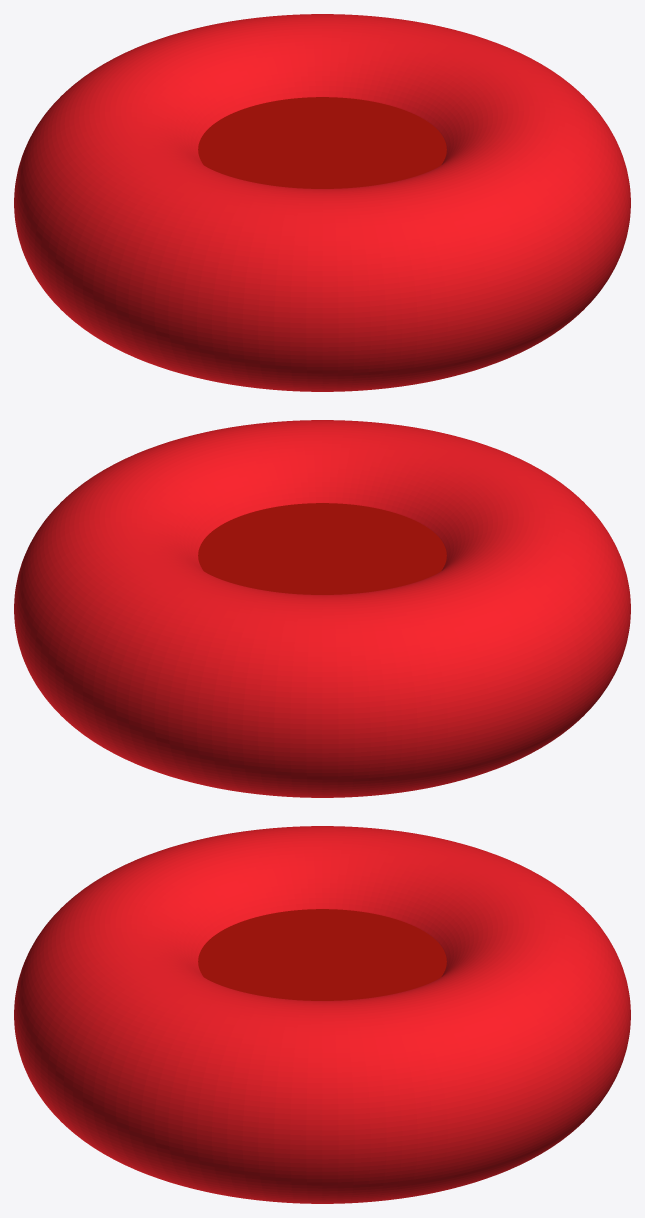
Rendered from Red Blood Cell.glb.
3 views of the same model, one above another, from view 1: azimuth 30°, elevation 25°; view 2: azimuth 150°, elevation 25°; view 3: azimuth 270°, elevation 25° (orthographic).
Parts seen in each view (by area): view 1: Torus.001, Cylinder -noimp; view 2: Torus.001, Cylinder -noimp; view 3: Torus.001, Cylinder -noimp.
Part boxes in pixels (left/top/right/bottom): Torus.001: left=14, top=14, right=630, bottom=391; Cylinder -noimp: left=198, top=97, right=446, bottom=188; Torus.001: left=14, top=420, right=630, bottom=797; Cylinder -noimp: left=198, top=503, right=446, bottom=594; Torus.001: left=14, top=826, right=630, bottom=1203; Cylinder -noimp: left=198, top=909, right=446, bottom=1000.
Size of the model in its own units: 1.52 by 0.5 by 1.52.
